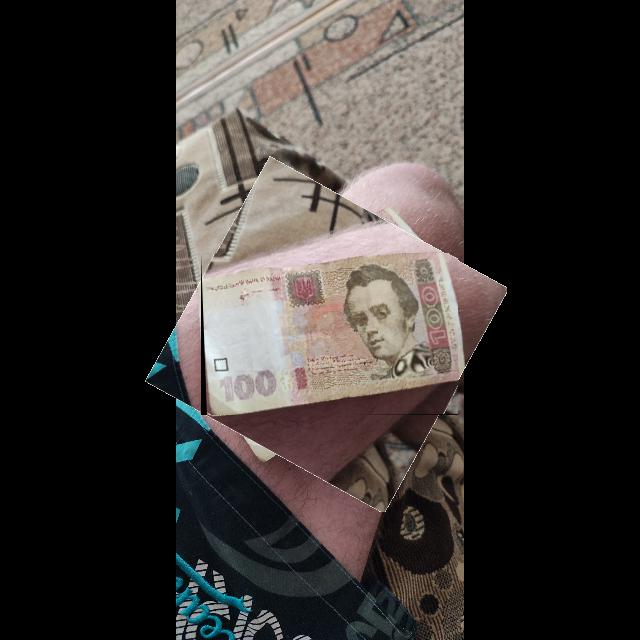100uah: (202, 253, 459, 416)
